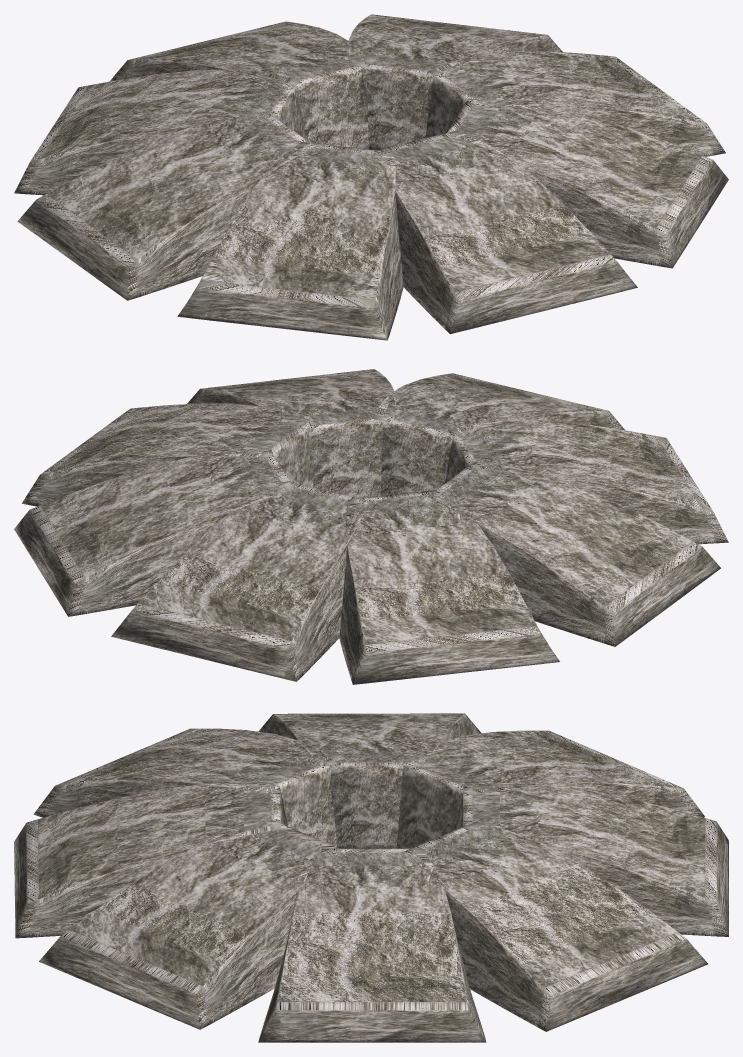
File: huzitubo.fbx
3 renders of one model, top to bottom at view 1: azimuth 30°, elevation 25°; view 2: azimuth 150°, elevation 25°; view 3: azimuth 270°, elevation 25°, orthographic. The views are drawn at different scales.
Parts seen in each view (by area): view 1: Box005; view 2: Box005; view 3: Box005.
Boxes of the visible parts, <box> form: Box005: <box>14,14,728,340</box>; Box005: <box>14,369,728,684</box>; Box005: <box>14,713,728,1042</box>.
Bounding box in the file's own units: 108 × 106 × 13.35.
Materials: 1 (1 with a texture image).
